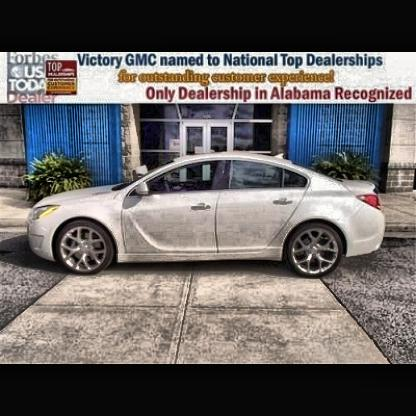Buick Regal GS 2012: (28, 155, 387, 280)
